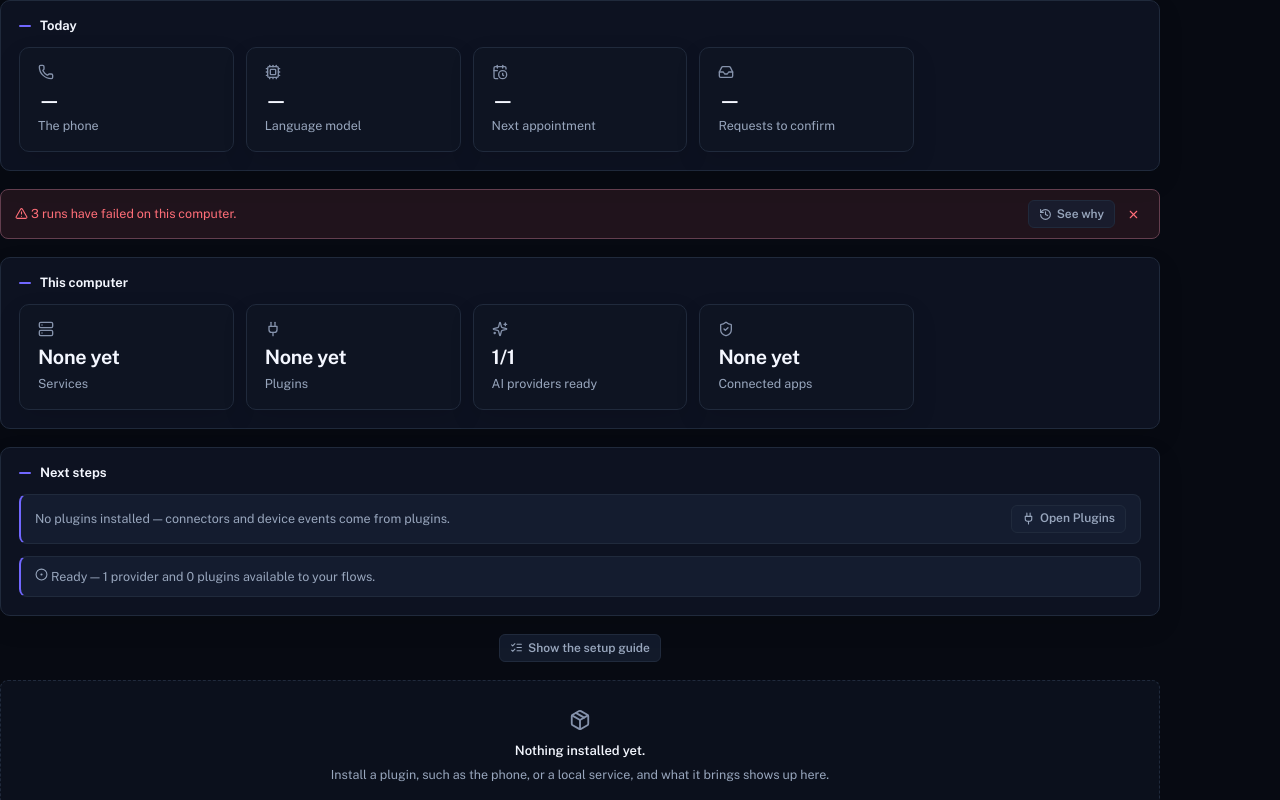
it: OverviewPanel failure reporting › says no more once seen, and only what failed since then
The image size is (1280, 800).
Click the button "See why" at (1071, 214), box [1028,200,1115,228]
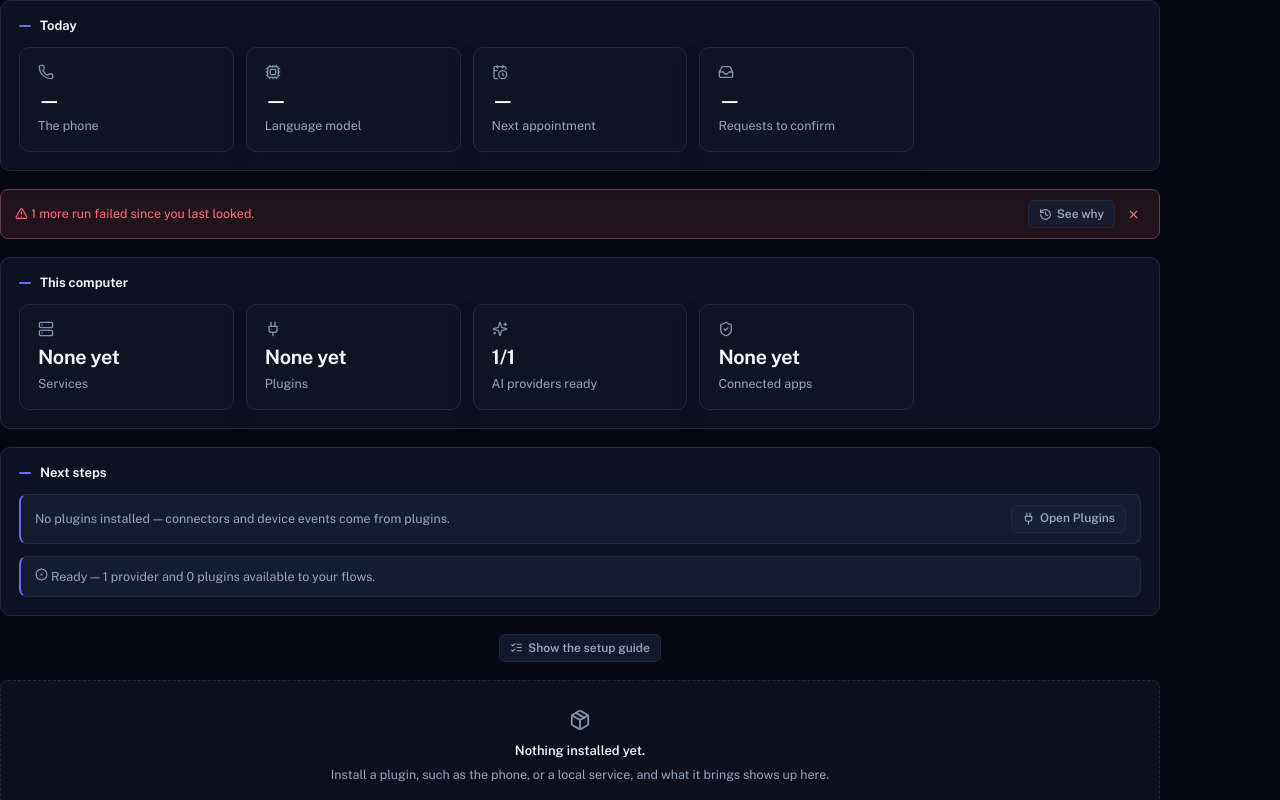
Now the text "failed on this computer" is gone
Now the text "1 more run failed since you last looked" is shown, box [31,206,254,221]
Click the button named "Dismiss: these failures are seen" at (1133, 214), box [1121,202,1145,226]
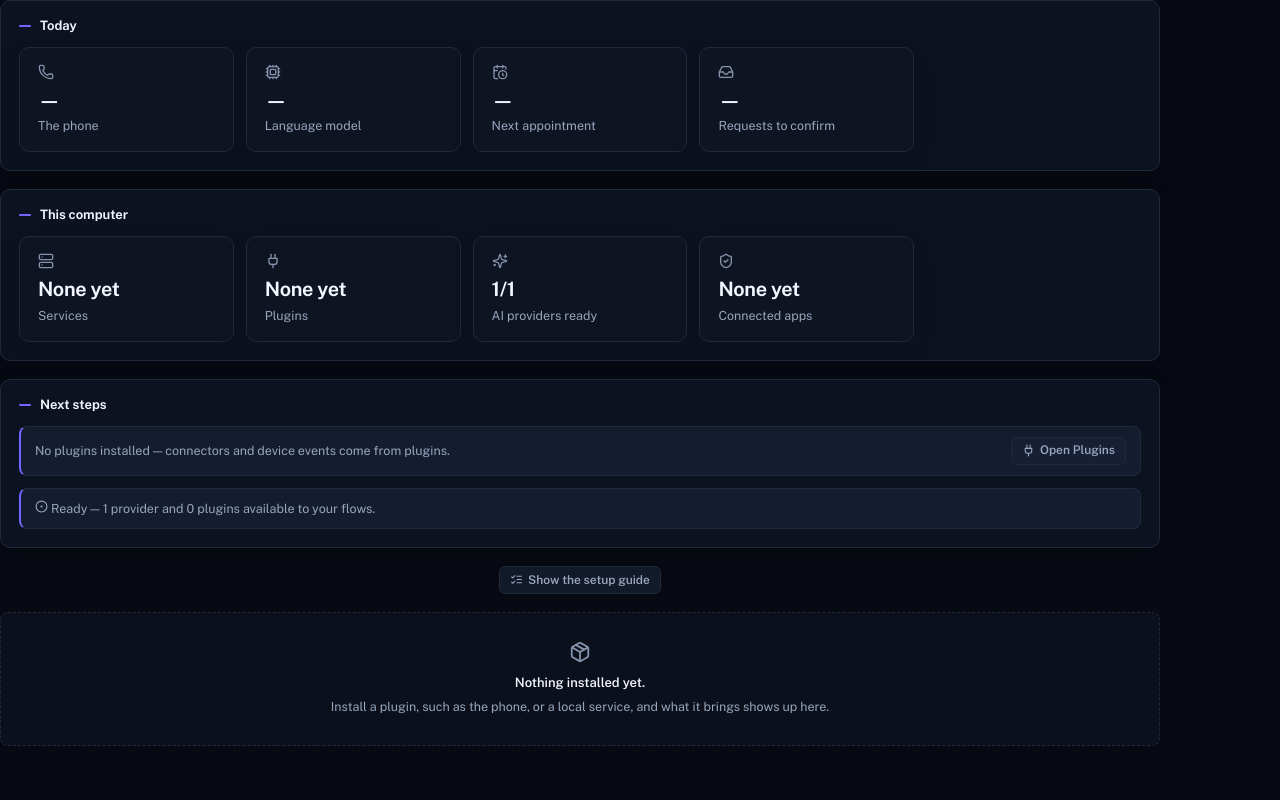
Now the text "failed since" is gone
